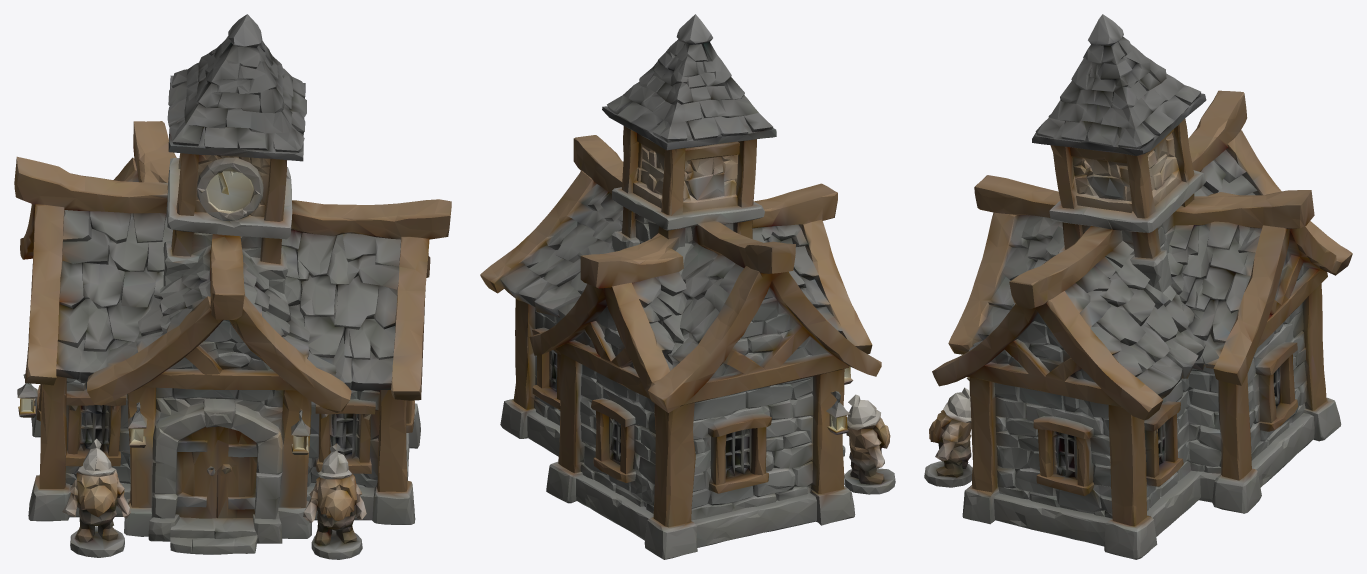
The model's file is emberdeep_town_centre.glb.
3 renders of one model, left to right at view 1: azimuth 30°, elevation 25°; view 2: azimuth 150°, elevation 25°; view 3: azimuth 270°, elevation 25°, orthographic. The views are drawn at different scales.
Visible parts, largest first — view 1: emberdeep_town_centre; view 2: emberdeep_town_centre; view 3: emberdeep_town_centre.
Boxes of the visible parts, bbox=[...] form: emberdeep_town_centre: bbox=[14, 14, 451, 559]; emberdeep_town_centre: bbox=[480, 14, 895, 559]; emberdeep_town_centre: bbox=[924, 14, 1352, 559].
Size of the model in its own units: 9.83 by 10.8 by 9.12.
